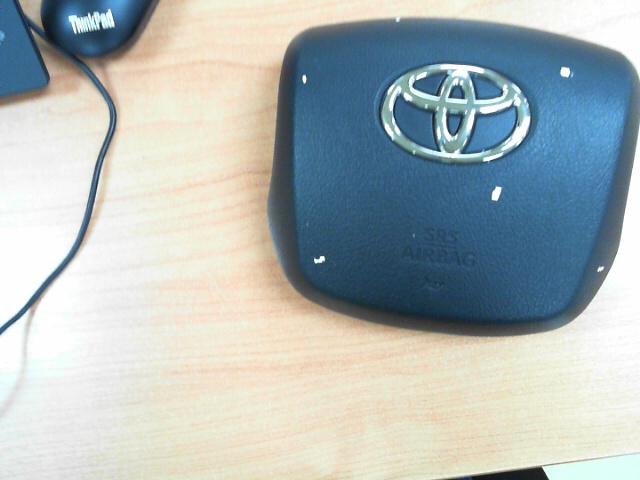Airbag: (559, 66, 573, 79), (491, 186, 502, 202), (313, 256, 326, 264), (301, 73, 308, 85), (393, 16, 402, 23), (596, 266, 604, 273)
